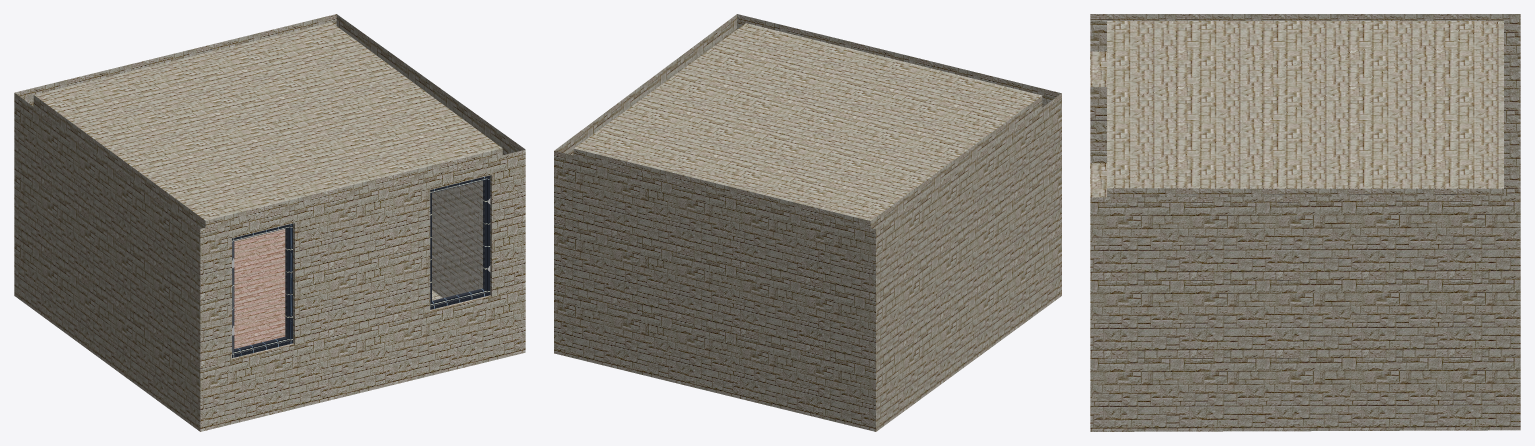
3 renders of one model, left to right at view 1: azimuth 30°, elevation 25°; view 2: azimuth 150°, elevation 25°; view 3: azimuth 270°, elevation 25°, orthographic. The views are drawn at different scales.
Parts seen in each view (by area): view 1: test_box; view 2: test_box; view 3: test_box.
Part boxes in pixels (x1=…): test_box: x1=14, y1=14, x2=525, y2=431; test_box: x1=554, y1=14, x2=1061, y2=431; test_box: x1=1090, y1=14, x2=1520, y2=431.
Bounding box in the file's own units: 5.04 × 3.01 × 5.
5 materials, 5 textured.
